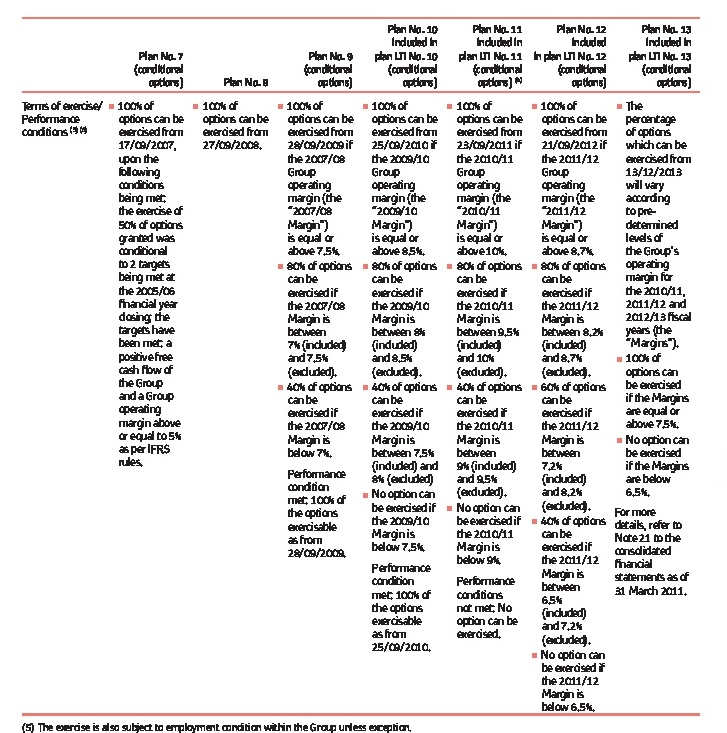table: (0, 0, 727, 733)
